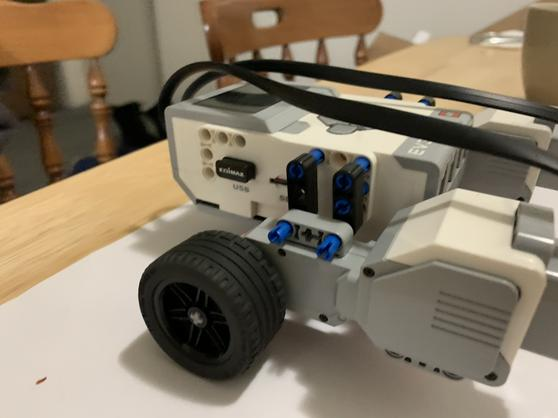robot: (118, 48, 558, 388)
